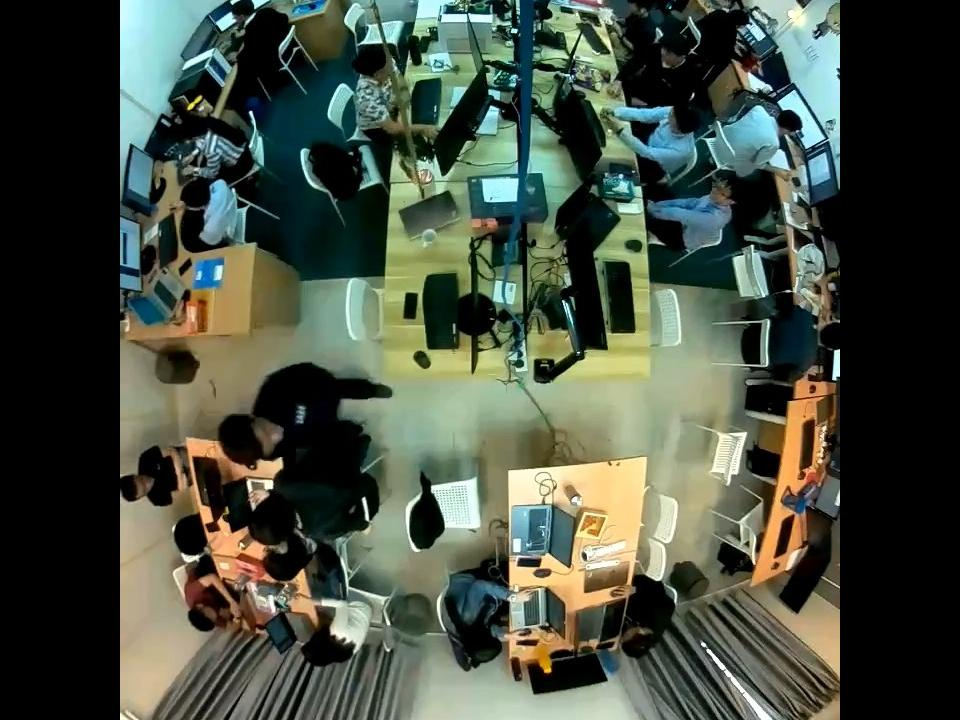name-tag: (294, 402, 308, 423)
